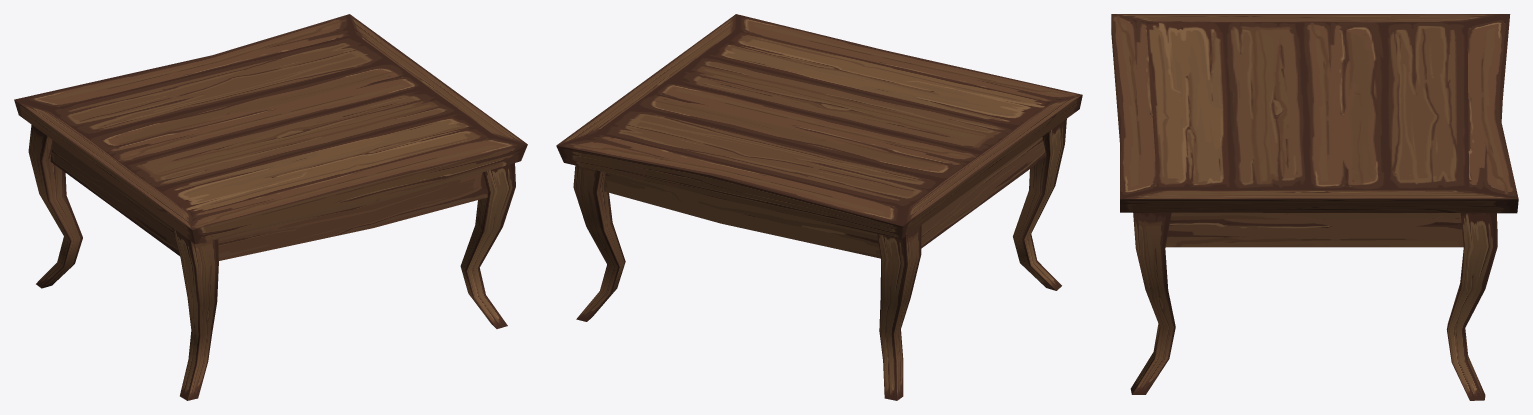
Rendered from SM_PROP_table_interior_01.fbx.
3 views of the same model, side by side, from view 1: azimuth 30°, elevation 25°; view 2: azimuth 150°, elevation 25°; view 3: azimuth 270°, elevation 25° (orthographic). The views are drawn at different scales.
Parts seen in each view (by area): view 1: SM_PROP_table_interior_01; view 2: SM_PROP_table_interior_01; view 3: SM_PROP_table_interior_01.
Part boxes in pixels (x1=…): SM_PROP_table_interior_01: x1=14, y1=14, x2=527, y2=400; SM_PROP_table_interior_01: x1=556, y1=14, x2=1082, y2=400; SM_PROP_table_interior_01: x1=1111, y1=14, x2=1518, y2=400.
Size of the model in its own units: 174 by 89.04 by 162.
